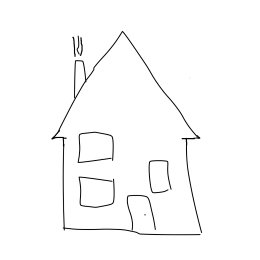door: (123, 188, 162, 236)
open_window: (72, 128, 120, 170), (75, 171, 116, 211), (144, 155, 180, 198)
single_line_roof: (42, 28, 210, 146)
smoking_chimney: (59, 30, 95, 100)
wall: (56, 133, 204, 242)
